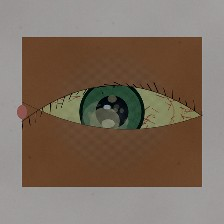corneal_ulcer: (80, 101, 129, 140)
